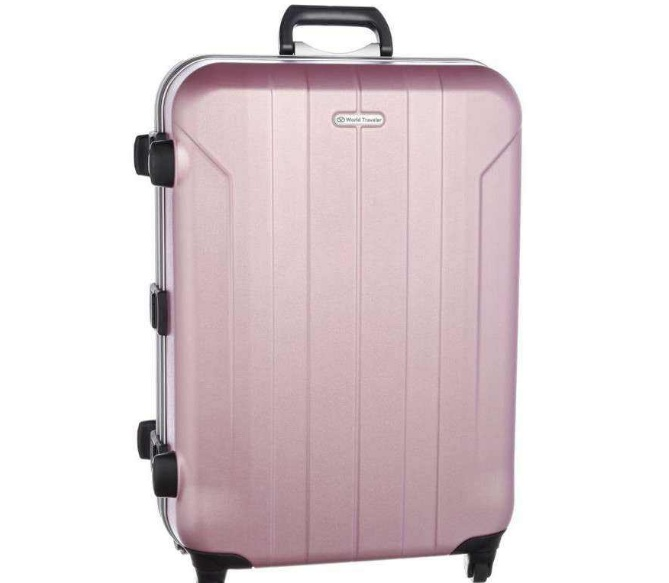suitcase: (134, 0, 529, 581)
